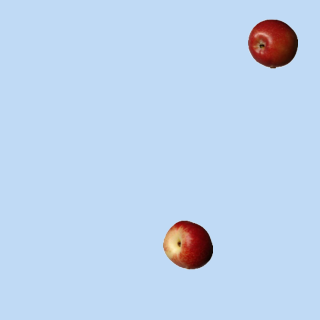Apple Braeburn: (247, 18, 297, 68)
Nectarine: (162, 219, 212, 269)
